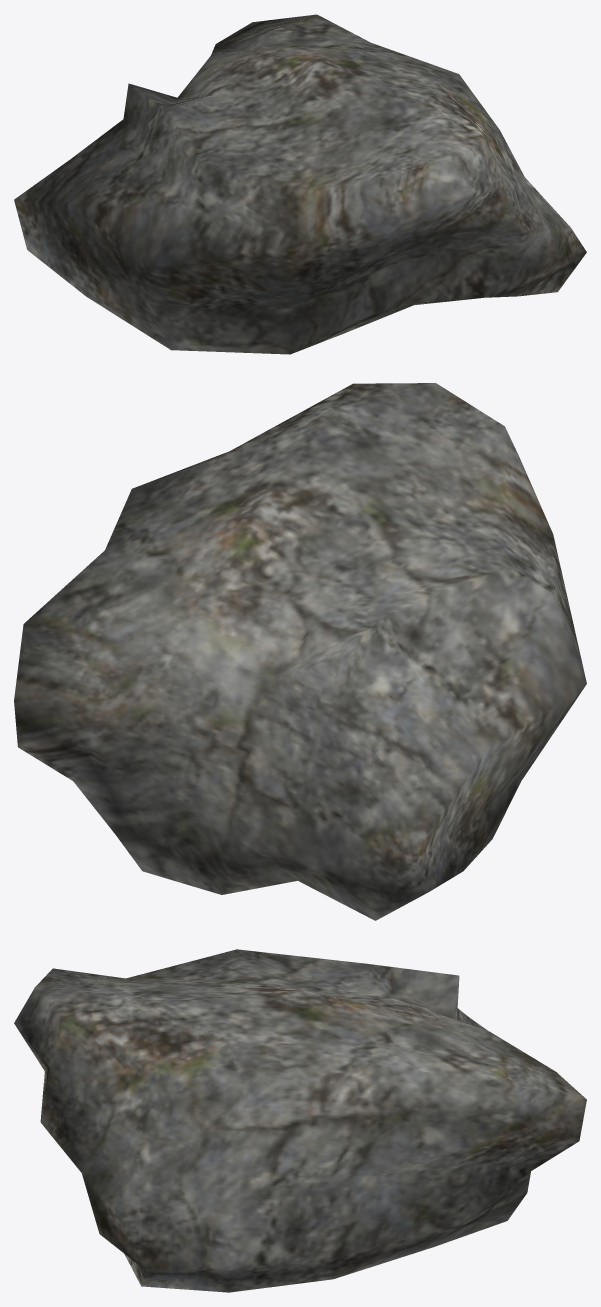
The model's file is Boulder_01.FBX.
The picture shows the model from 3 angles, top to bottom: view 1: azimuth 30°, elevation 25°; view 2: azimuth 150°, elevation 25°; view 3: azimuth 270°, elevation 25°; orthographic projection. The views are drawn at different scales.
Parts seen in each view (by area): view 1: Boulder_01; view 2: Boulder_01; view 3: Boulder_01.
Part boxes in pixels (x1,y1,x2,y2): Boulder_01: (14, 14, 586, 354); Boulder_01: (14, 383, 586, 920); Boulder_01: (14, 949, 586, 1292).
Bounding box in the file's own units: 42.45 × 25.99 × 50.49.
